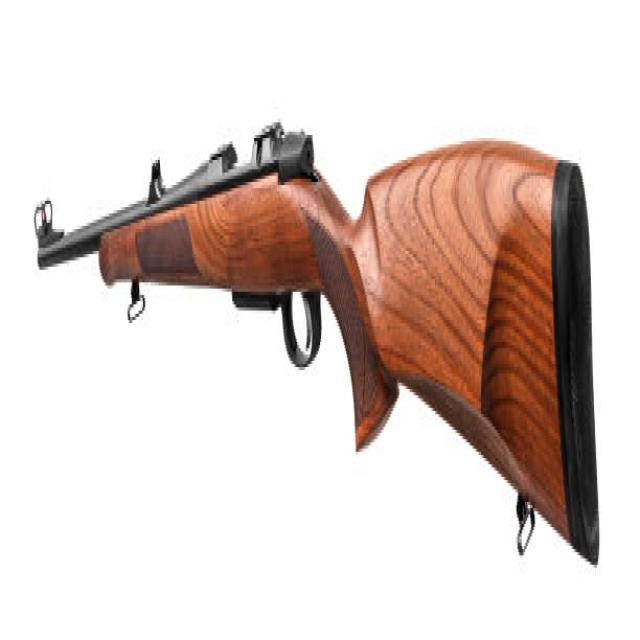rifle: (28, 97, 603, 584)
